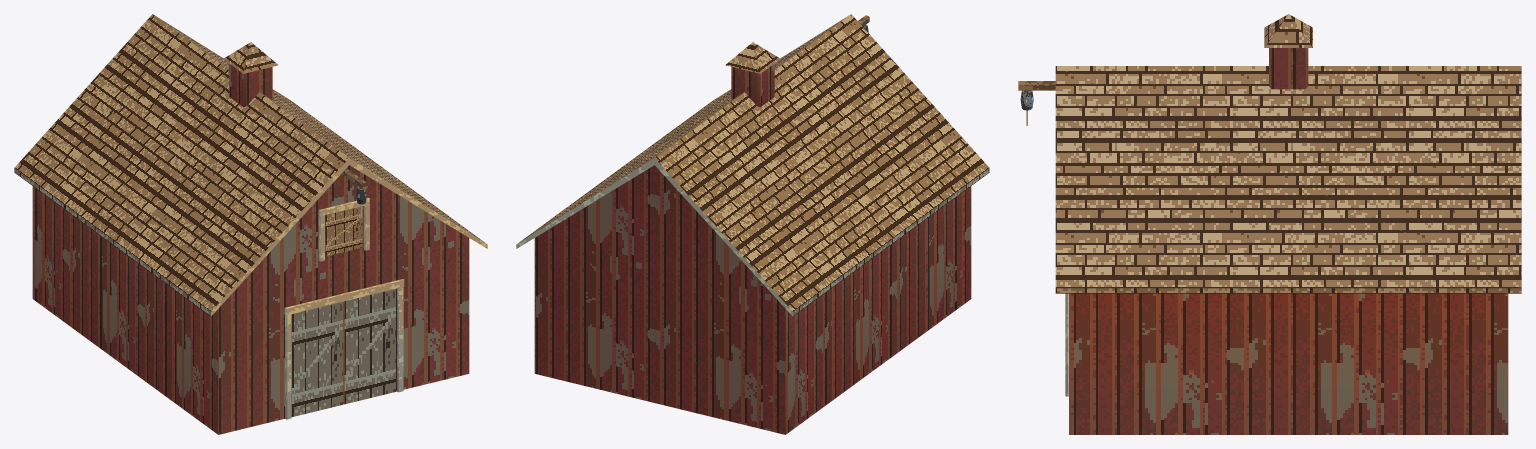
The model's file is wtown.stable__barn.glb.
The picture shows the model from 3 angles, left to right: view 1: azimuth 30°, elevation 25°; view 2: azimuth 150°, elevation 25°; view 3: azimuth 270°, elevation 25°; orthographic projection. The views are drawn at different scales.
Parts seen in each view (by area): view 1: kit_roof, kit_body, kit_card_panes, kit_trim, kit_cupola, kit_cupola_cap; view 2: kit_body, kit_roof, kit_cupola, kit_cupola_cap; view 3: kit_roof, kit_body, kit_cupola, kit_cupola_cap, kit_hoist.
Boxes of the visible parts, x1,y1,x2,y2 form: kit_roof: (14,14,487,316); kit_body: (32,165,469,434); kit_card_panes: (292,206,395,416); kit_trim: (284,198,404,419); kit_cupola: (229,64,272,107); kit_cupola_cap: (223,42,278,73); kit_body: (534,165,971,434); kit_roof: (516,14,989,316); kit_cupola: (731,64,774,107); kit_cupola_cap: (725,42,780,73); kit_roof: (1055,66,1521,293); kit_body: (1069,293,1508,434); kit_cupola: (1269,48,1308,89); kit_cupola_cap: (1264,14,1312,47); kit_hoist: (1018,81,1055,110).
Bounding box in the file's own units: 8.6 × 8.75 × 11.45.
7 materials, 7 textured.
